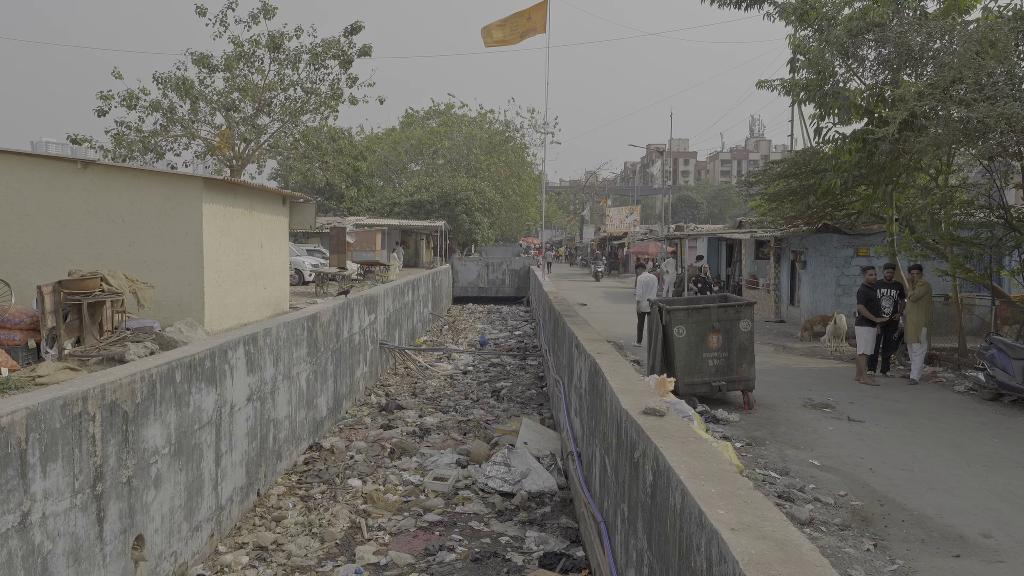dustbin: (649, 295, 759, 414)
garbage: (475, 442, 560, 502), (214, 548, 248, 568), (278, 516, 311, 528), (498, 535, 515, 545)
